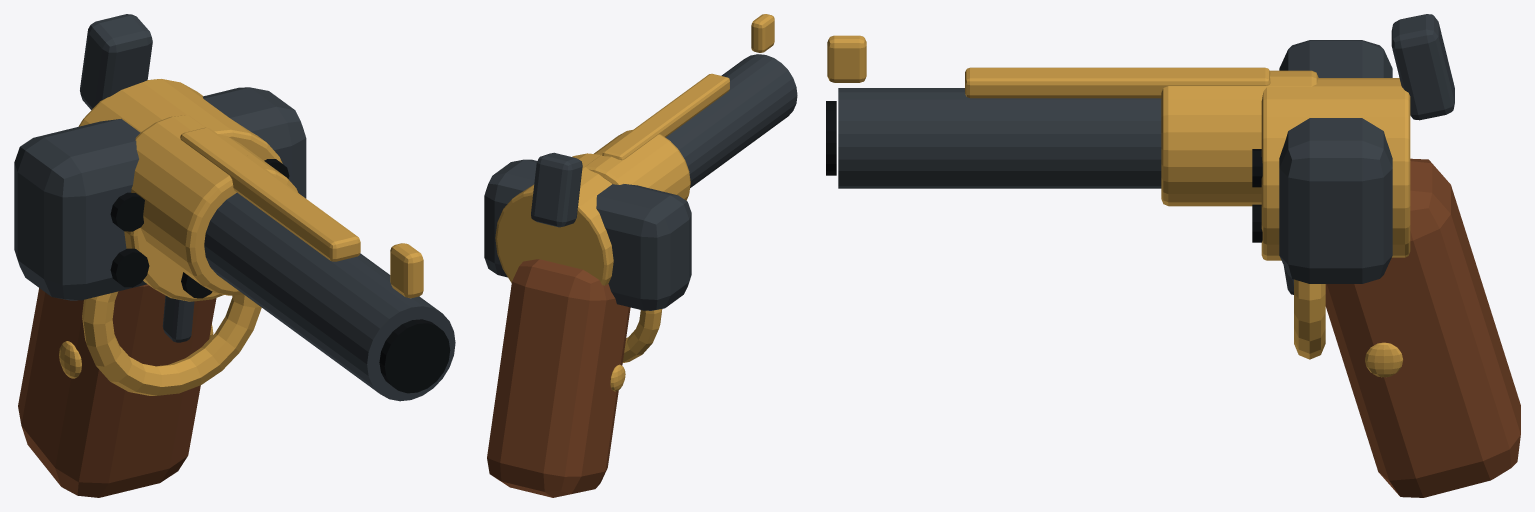
The model's file is boarding-pistol.glb.
3 renders of one model, left to right at view 1: azimuth 30°, elevation 25°; view 2: azimuth 150°, elevation 25°; view 3: azimuth 270°, elevation 25°, orthographic. The views are drawn at different scales.
Parts seen in each view (by area): view 1: Angled walnut grip, Receiver, Rifled barrel, Barrel shroud, Trigger guard, Six chamber cylinder, Top sight rail, Cocking hammer, Dark muzzle bore, Front sight, Curved trigger, Cylinder chamber recess 5 (+2 smaller); view 2: Angled walnut grip, Receiver, Rifled barrel, Six chamber cylinder, Barrel shroud, Cocking hammer, Top sight rail, Trigger guard, Front sight; view 3: Angled walnut grip, Rifled barrel, Receiver, Barrel shroud, Six chamber cylinder, Top sight rail, Cocking hammer, Trigger guard, Front sight, Grip rivet L, Dark muzzle bore.
Part boxes in pixels (x1,y1,x2,y2): Angled walnut grip: (18,284,216,497); Receiver: (14,87,306,300); Rifled barrel: (204,192,455,401); Barrel shroud: (131,115,298,295); Trigger guard: (82,291,261,395); Six chamber cylinder: (78,79,282,301); Top sight rail: (180,127,360,261); Cocking hammer: (80,14,152,109); Dark muzzle bore: (379,319,450,393); Front sight: (390,243,423,298); Curved trigger: (162,295,194,342); Cylinder chamber recess 5: (110,248,149,287); Angled walnut grip: (487,259,630,497); Receiver: (484,159,691,310); Rifled barrel: (665,54,797,187); Six chamber cylinder: (495,153,613,285); Barrel shroud: (585,130,690,200); Cocking hammer: (531,152,582,227); Top sight rail: (602,73,729,160); Trigger guard: (622,309,662,362); Front sight: (751,14,774,52); Angled walnut grip: (1325,158,1520,497); Rifled barrel: (838,88,1161,188); Receiver: (1279,40,1392,283); Barrel shroud: (1161,70,1318,206); Six chamber cylinder: (1261,78,1410,260); Top sight rail: (965,67,1270,98); Cocking hammer: (1391,14,1454,120); Trigger guard: (1294,279,1325,359); Front sight: (827,35,866,82); Grip rivet L: (1365,342,1402,377); Dark muzzle bore: (826,101,836,175).
Bounding box in the file's own units: 0.34 × 0.5807 × 0.7958.
